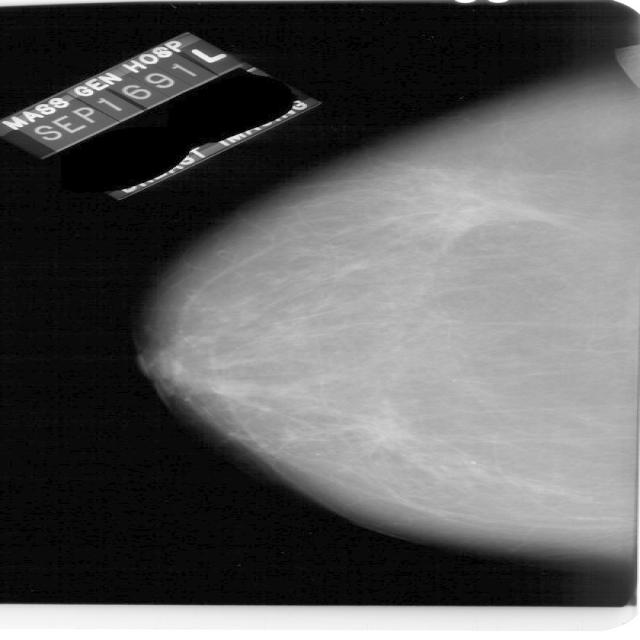tumour: (352, 408, 419, 451)
